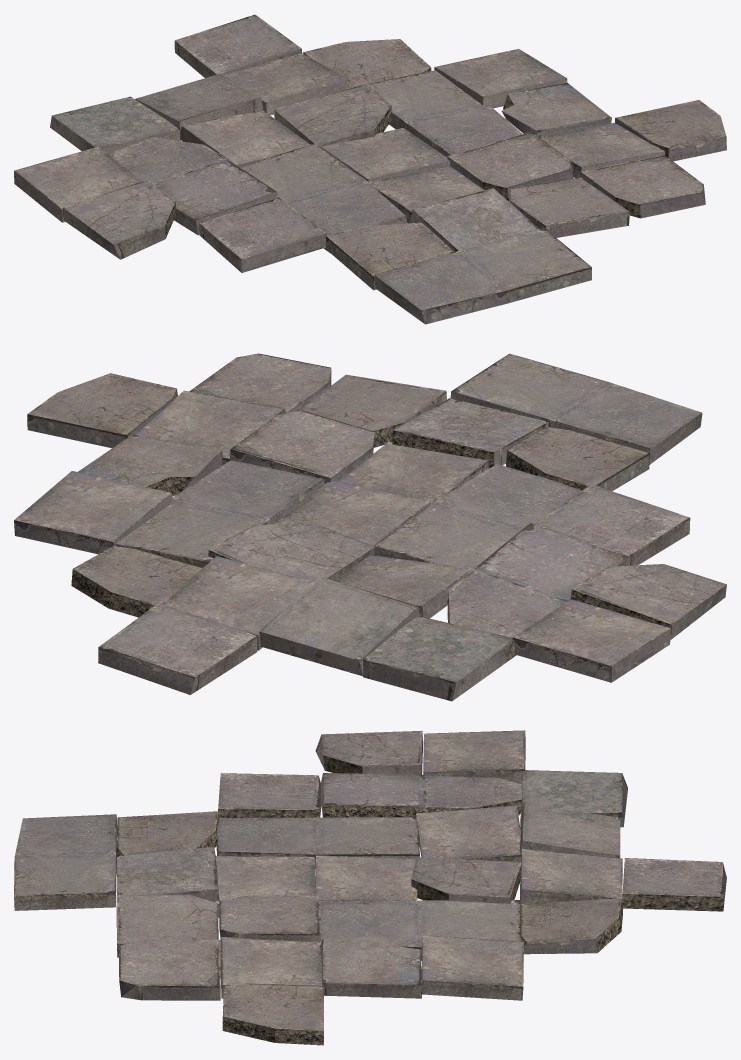
File: Floor0.fbx
3 renders of one model, top to bottom at view 1: azimuth 30°, elevation 25°; view 2: azimuth 150°, elevation 25°; view 3: azimuth 270°, elevation 25°, orthographic. The views are drawn at different scales.
Parts seen in each view (by area): view 1: M4_Nigraturis_Floor02_SM_SCY; view 2: M4_Nigraturis_Floor02_SM_SCY; view 3: M4_Nigraturis_Floor02_SM_SCY.
Part boxes in pixels (box(x1,y1,x2,y2)): M4_Nigraturis_Floor02_SM_SCY: box(14, 14, 726, 324); M4_Nigraturis_Floor02_SM_SCY: box(14, 353, 726, 701); M4_Nigraturis_Floor02_SM_SCY: box(14, 730, 726, 1045).
Size of the model in its own units: 3.04 by 0.1578 by 3.06.
1 material, 1 textured.
